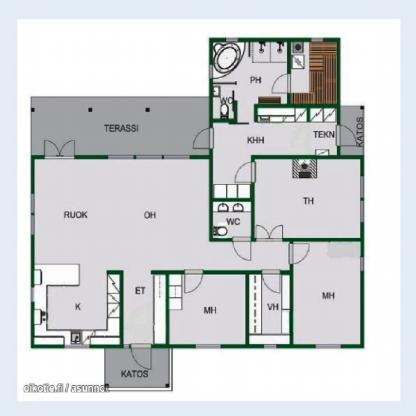door: (43, 137, 76, 164), (335, 124, 360, 151), (233, 158, 258, 184), (130, 342, 152, 370), (191, 127, 216, 151), (287, 242, 311, 266), (261, 268, 282, 295), (232, 235, 252, 263), (183, 270, 204, 295), (255, 225, 285, 242), (270, 73, 292, 96)
window: (160, 153, 190, 163), (108, 152, 134, 162), (358, 200, 368, 225), (195, 343, 222, 351), (358, 176, 366, 200), (134, 154, 164, 160), (313, 344, 343, 350), (358, 255, 367, 272), (30, 192, 36, 217), (262, 344, 277, 352), (31, 214, 35, 236), (64, 344, 91, 347)
zone: (34, 160, 290, 345), (212, 102, 339, 199), (31, 96, 208, 154), (293, 241, 360, 343), (211, 43, 290, 121), (170, 274, 244, 344), (290, 42, 339, 104), (249, 275, 291, 344), (106, 347, 168, 386)
